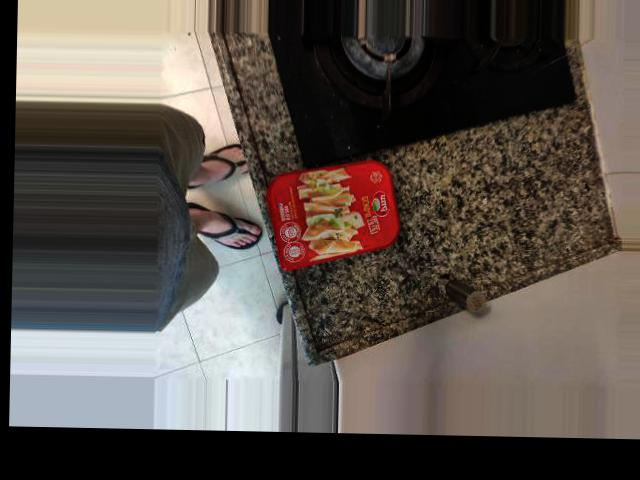cheese: (378, 139, 543, 256)
